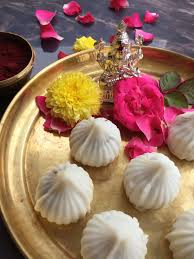modak: (31, 160, 109, 225), (121, 152, 186, 215), (82, 209, 160, 259), (64, 114, 121, 163)
